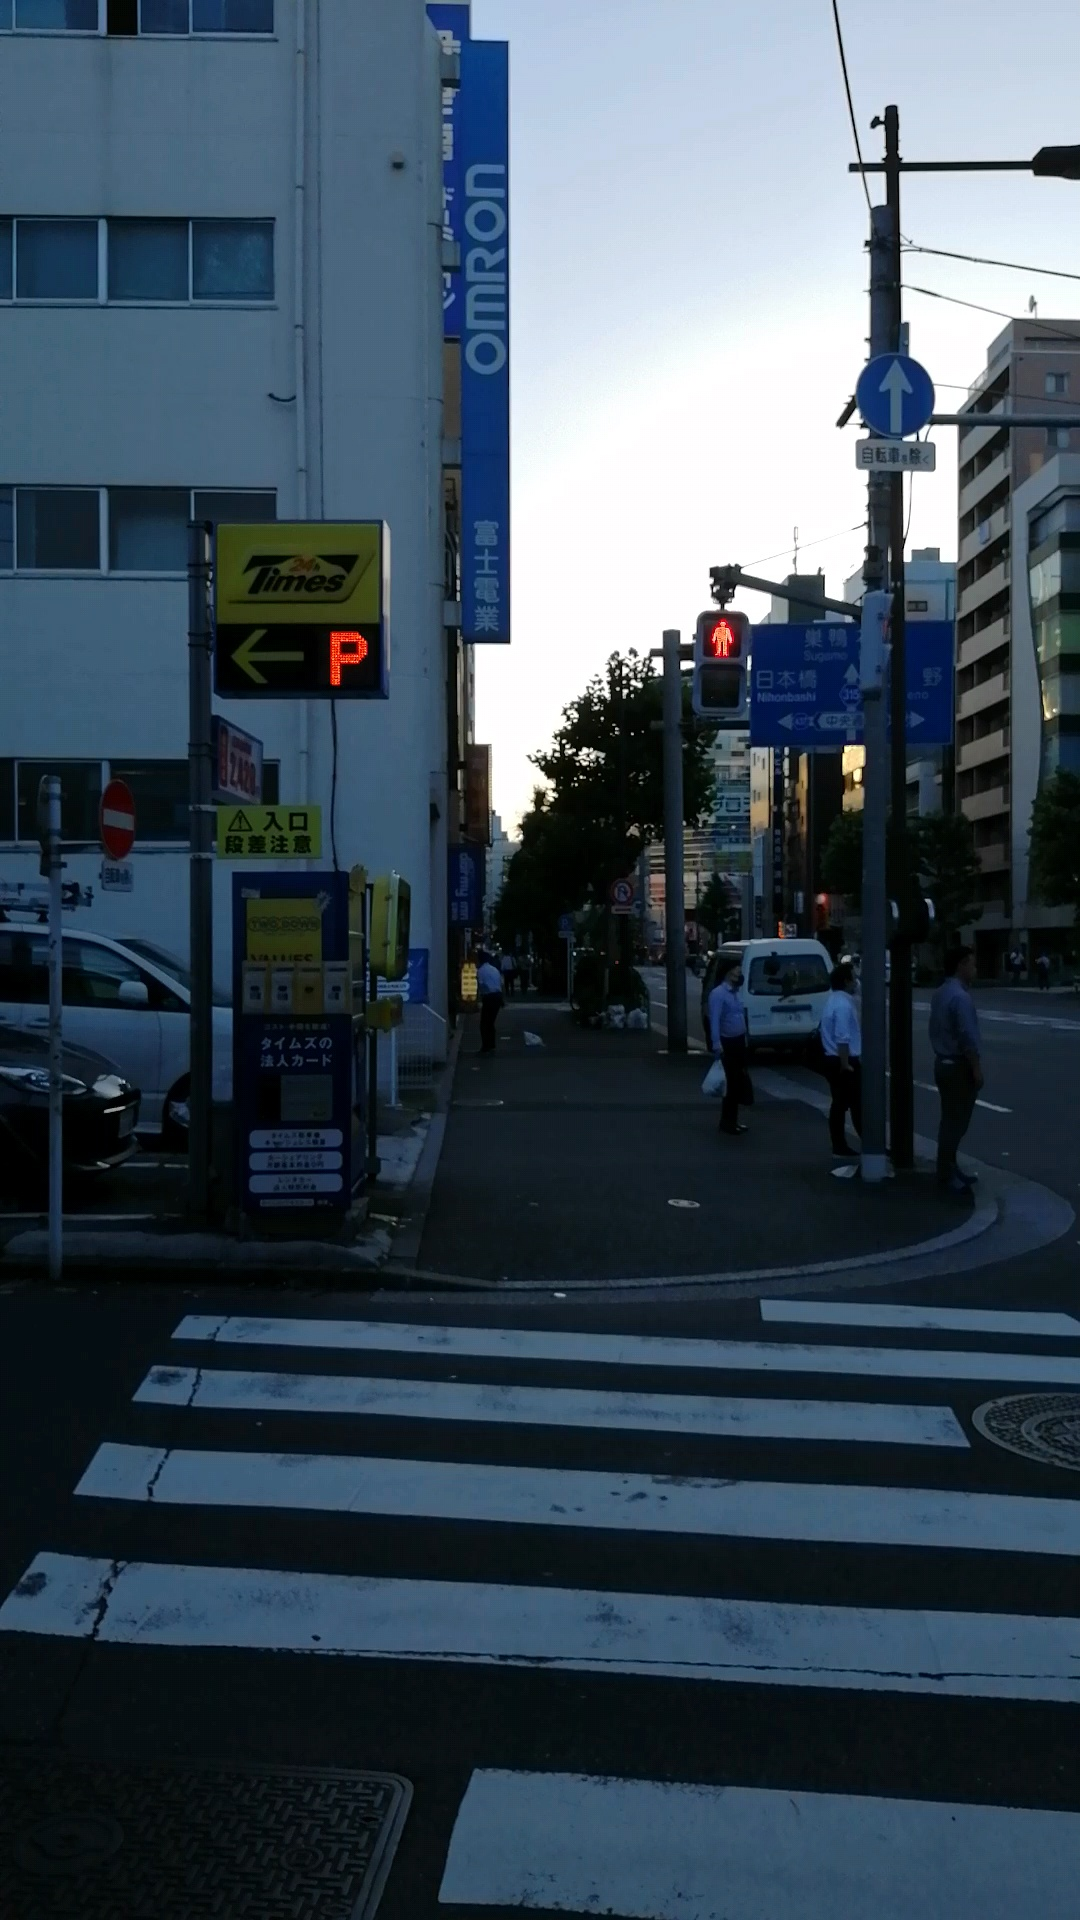red: (694, 608, 752, 717)
